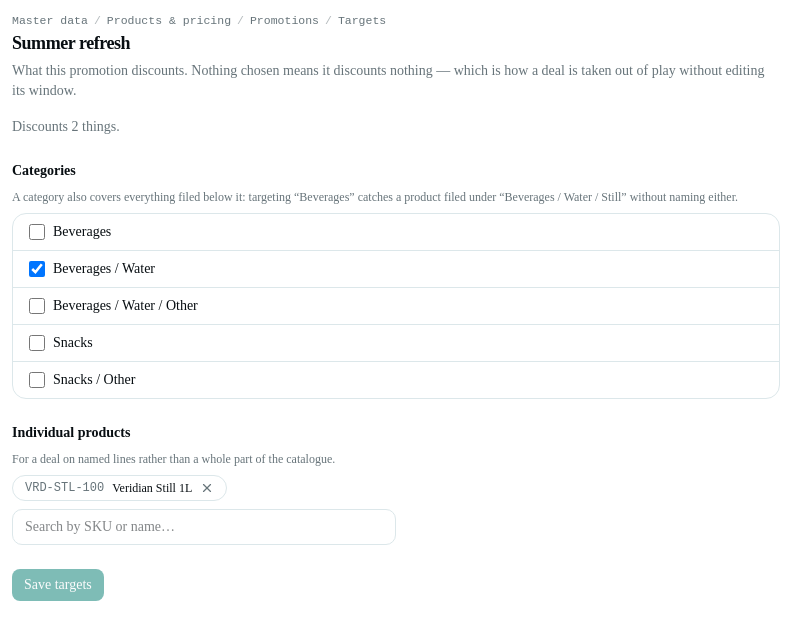
Test: <PromotionTargets> › counts removing a product as a change, not only adding one
Expected: the button "Save targets" is disabled, [12,569,104,601]
Click the button named "Remove Veridian Still 1L (VRD-STL-100)": (207, 488) [200,481,214,495]
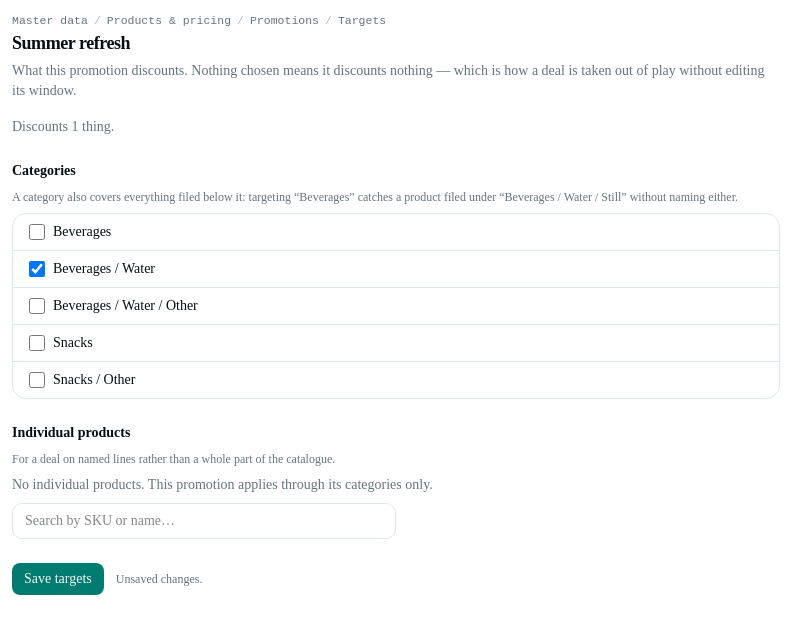
Expected: the button "Save targets" is enabled, [12,563,104,595]
